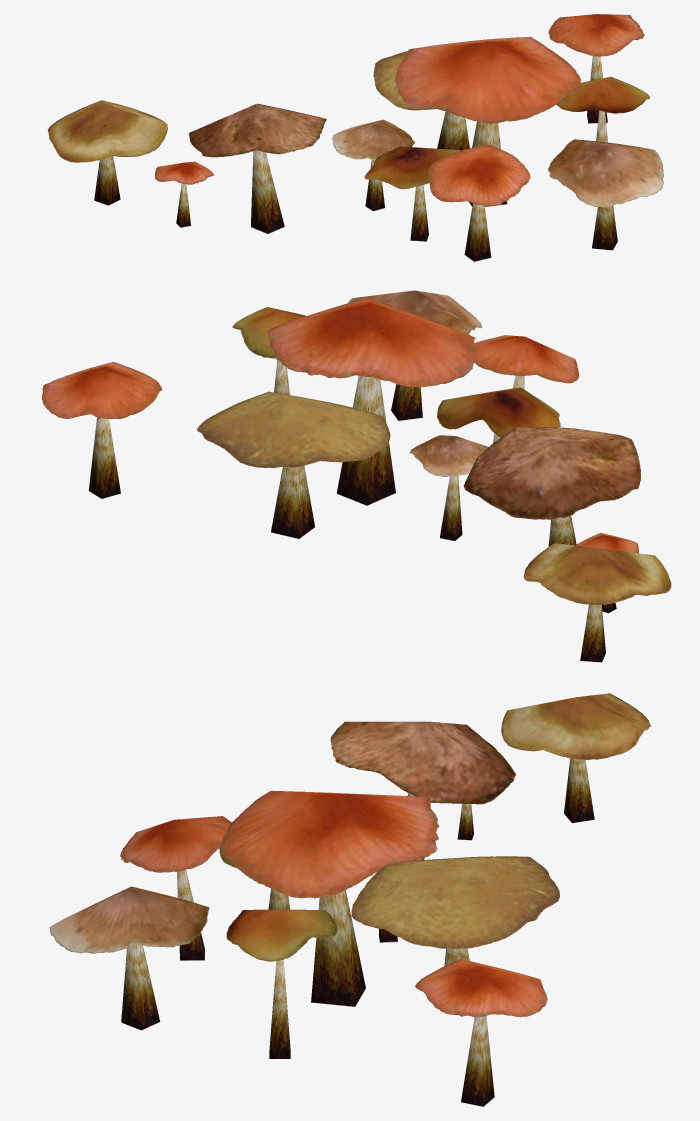
Rendered from fngi_mushroom_clump_a3_l0.fbx.
The picture shows the model from 3 angles, top to bottom: view 1: azimuth 30°, elevation 25°; view 2: azimuth 150°, elevation 25°; view 3: azimuth 270°, elevation 25°; orthographic projection. The views are drawn at different scales.
Parts seen in each view (by area): view 1: mesh_node; view 2: mesh_node; view 3: mesh_node.
Part boxes in pixels (<box>): mesh_node: <box>47,14,663,261</box>; mesh_node: <box>41,290,671,662</box>; mesh_node: <box>49,693,650,1106</box>.
Size of the model in its own units: 1.51 by 0.3838 by 1.16.
